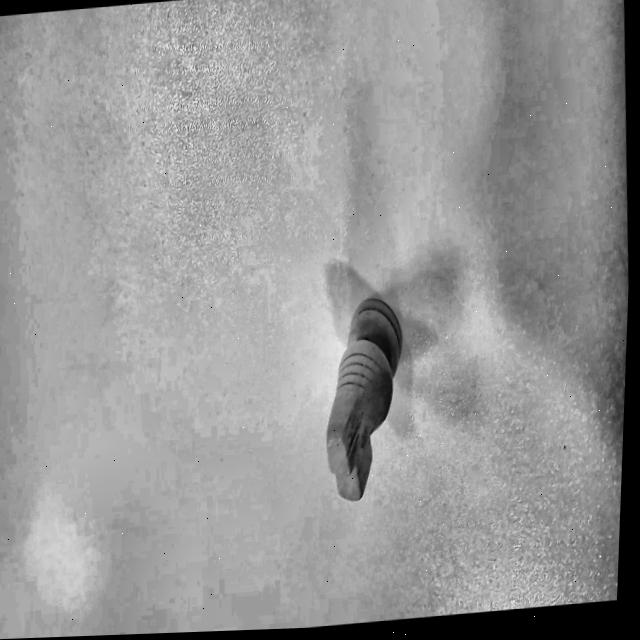white-knight: (282, 238, 450, 572)
